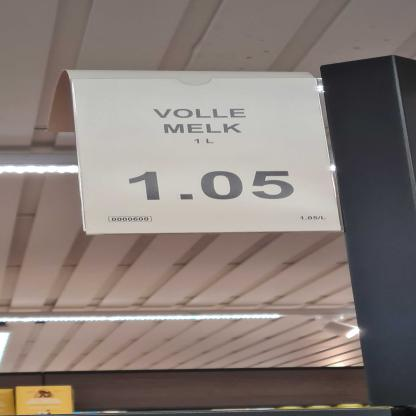prtg: (71, 79, 344, 236)
